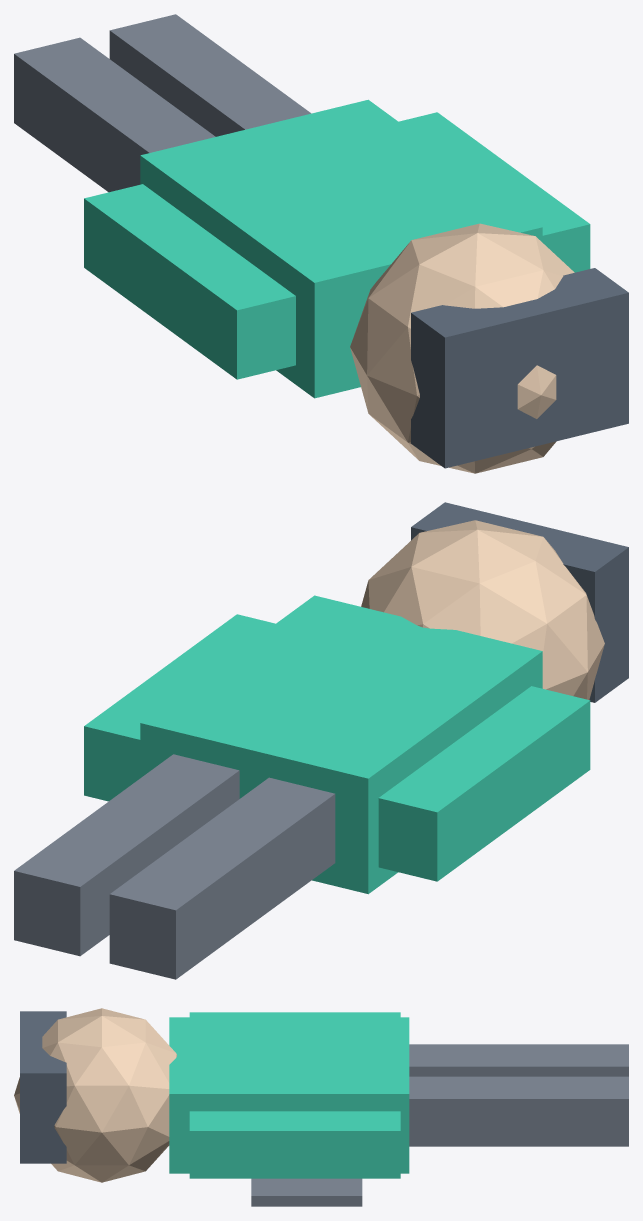
File: support.glb
3 renders of one model, top to bottom at view 1: azimuth 30°, elevation 25°; view 2: azimuth 150°, elevation 25°; view 3: azimuth 270°, elevation 25°, orthographic. The views are drawn at different scales.
Parts seen in each view (by area): view 1: torso_2, hair_6, arm_l_3, head_5, leg_l_0, leg_r_1, arm_r_4; view 2: torso_2, leg_l_0, arm_l_3, head_5, leg_r_1, arm_r_4, hair_6; view 3: torso_2, head_5, leg_r_1, arm_r_4, leg_l_0, hair_6, tablet_7, arm_l_3.
Boxes of the visible parts, box(x1,y1,x2,y2) form: torso_2: box(140, 99, 542, 398); hair_6: box(411, 268, 628, 468); arm_l_3: box(84, 184, 295, 379); head_5: box(350, 223, 574, 473); leg_l_0: box(14, 37, 215, 192); leg_r_1: box(109, 14, 311, 136); arm_r_4: box(399, 112, 590, 272); torso_2: box(140, 595, 542, 894); leg_l_0: box(109, 777, 335, 979); arm_l_3: box(378, 686, 590, 881); head_5: box(361, 520, 604, 699); leg_r_1: box(14, 754, 239, 956); arm_r_4: box(84, 614, 275, 801); hair_6: box(411, 502, 628, 702); torso_2: box(169, 1017, 409, 1173); head_5: box(14, 1008, 176, 1182); leg_r_1: box(409, 1076, 628, 1146); arm_r_4: box(189, 1111, 400, 1178); leg_l_0: box(409, 1044, 628, 1076); hair_6: box(20, 1011, 66, 1163); tablet_7: box(251, 1178, 362, 1206); arm_l_3: box(189, 1012, 400, 1017).
Bounding box in the file's own units: 0.96 × 0.6 × 2.1.
